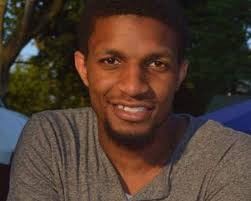black_male: (91, 1, 200, 153)
